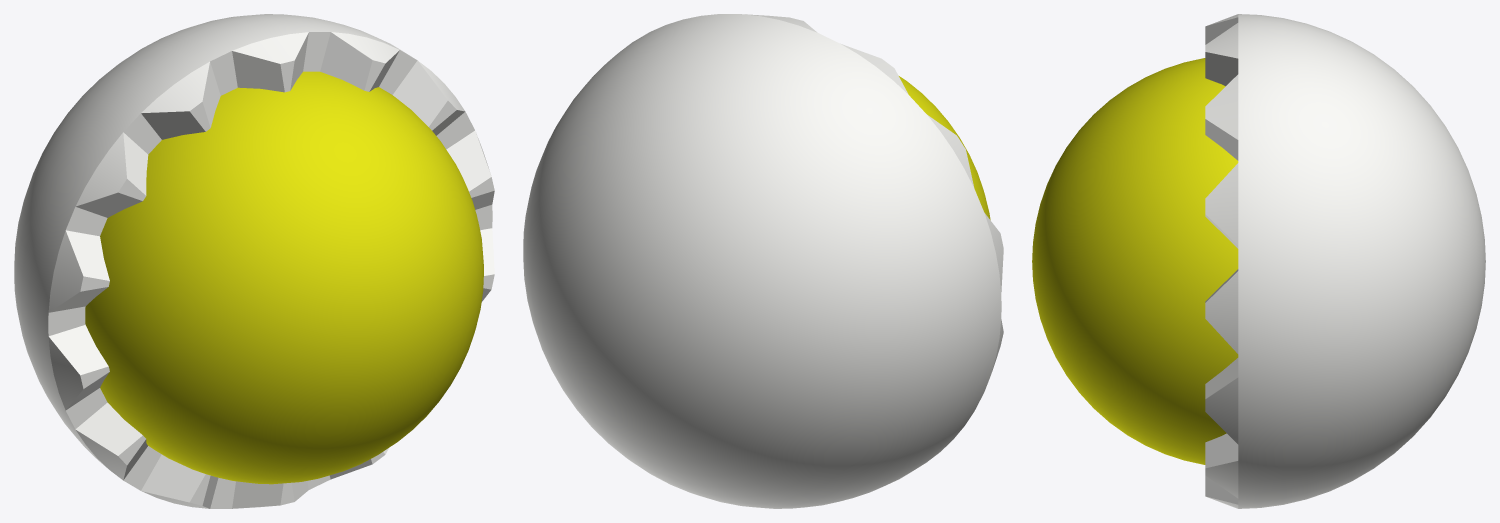
File: Nadegg.fbx
The picture shows the model from 3 angles, left to right: view 1: azimuth 30°, elevation 25°; view 2: azimuth 150°, elevation 25°; view 3: azimuth 270°, elevation 25°; orthographic projection. The views are drawn at different scales.
Visible parts, largest first — view 1: Body1, Body2; view 2: Body2, Body1; view 3: Body2, Body1.
Boxes of the visible parts, bbox=[...] form: Body1: bbox=[85, 71, 483, 484]; Body2: bbox=[14, 14, 494, 508]; Body2: bbox=[523, 14, 1003, 508]; Body1: bbox=[899, 76, 990, 219]; Body2: bbox=[1205, 14, 1485, 508]; Body1: bbox=[1032, 58, 1238, 464].
Size of the model in its own units: 120 by 120 by 110.
